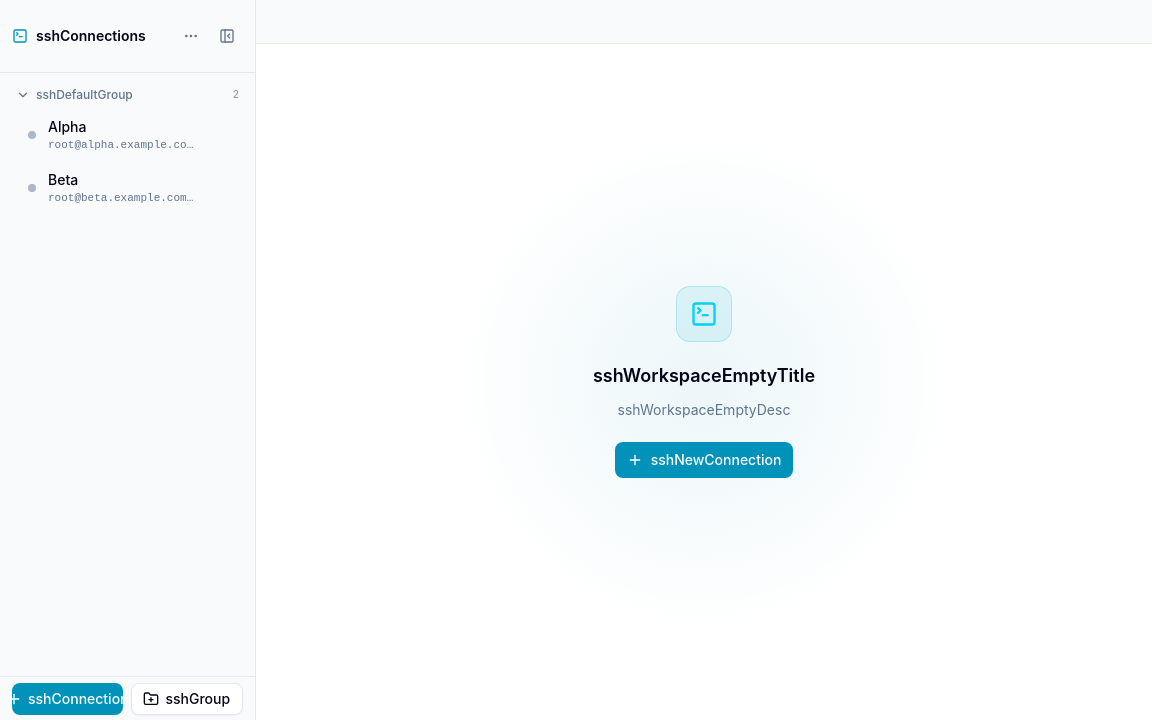
it: SSH workspace › creates and persists a custom SSH group from the sidebar
Click the button with aria-label "sshNewGroup" at {"x": 187, "y": 698}, box [130,682,243,714]
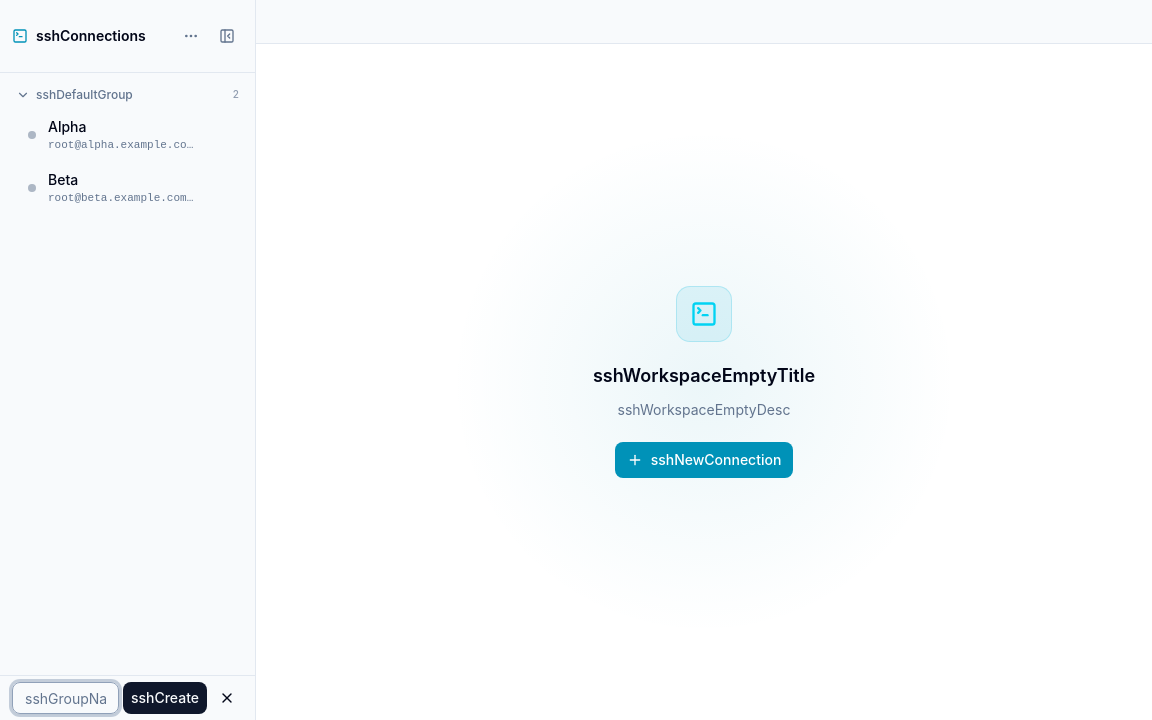
Type "Production" into the field labelled "sshGroupName" at {"x": 65, "y": 698}, box [12,682,119,714]
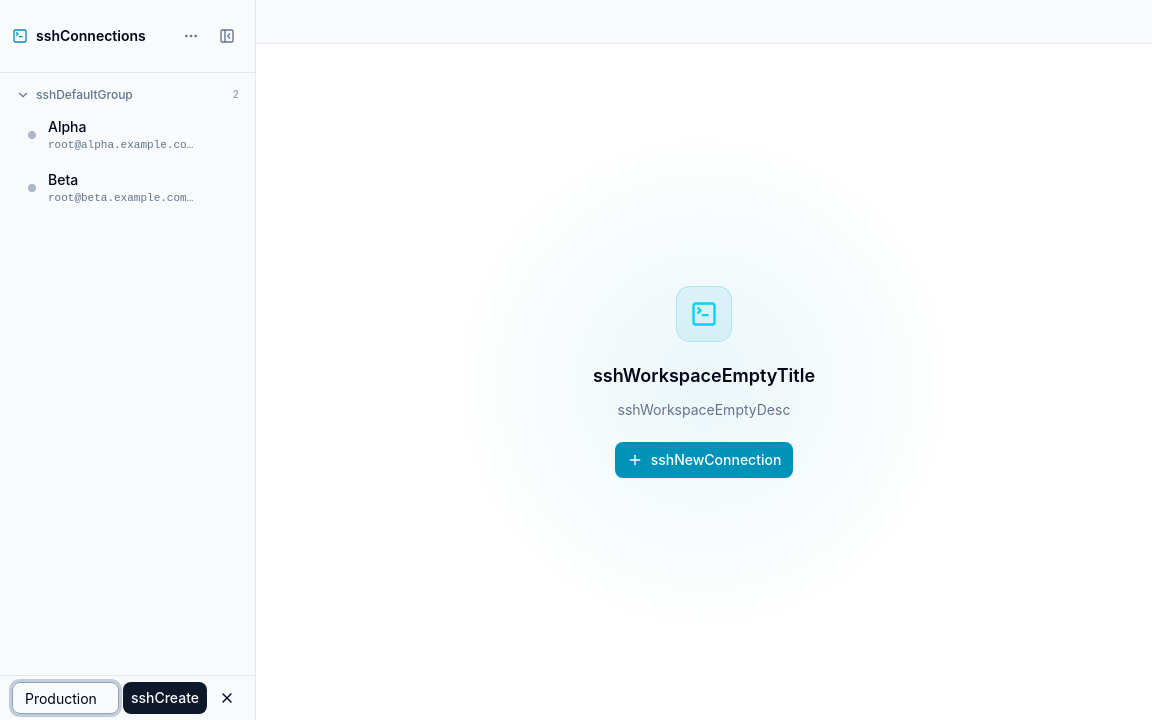
Click the button with aria-label "sshCreateGroup" at {"x": 165, "y": 698}, box [123,682,207,714]
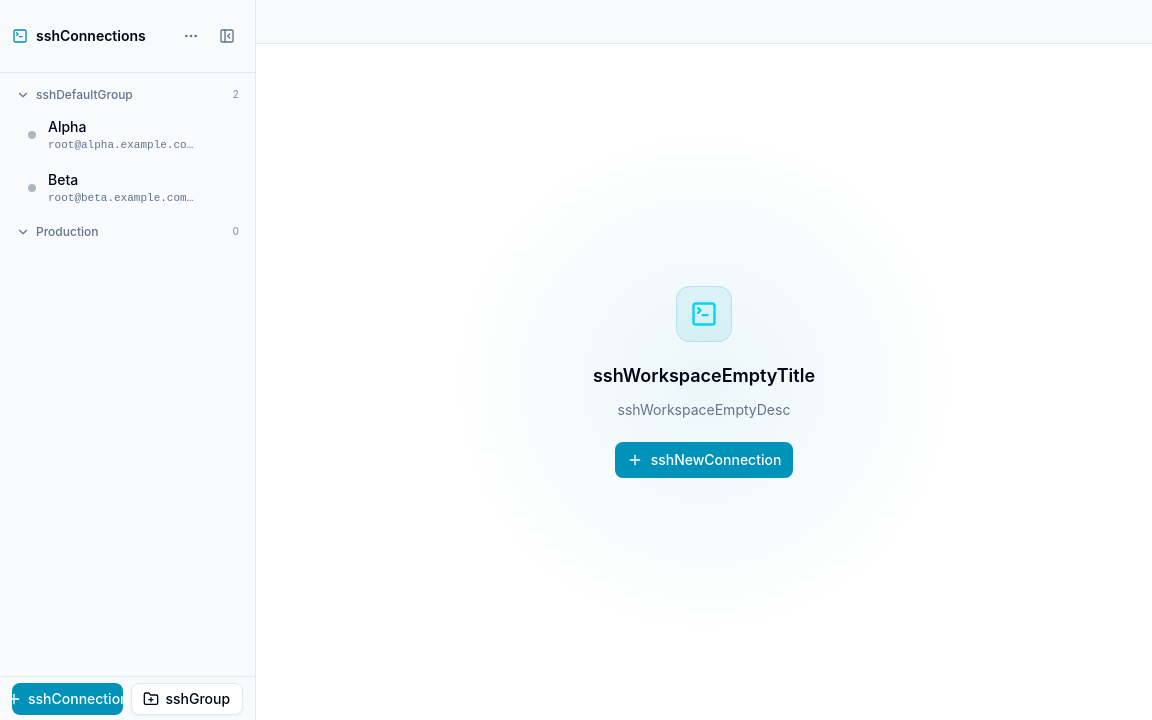
Expected: the button with aria-label "sshToggleGroup Production" is shown, [8,218,247,246]
